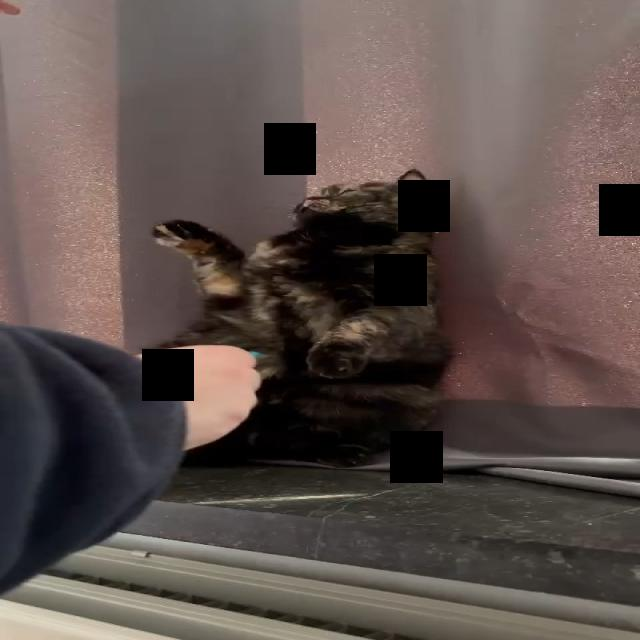authorized: (143, 167, 454, 468)
